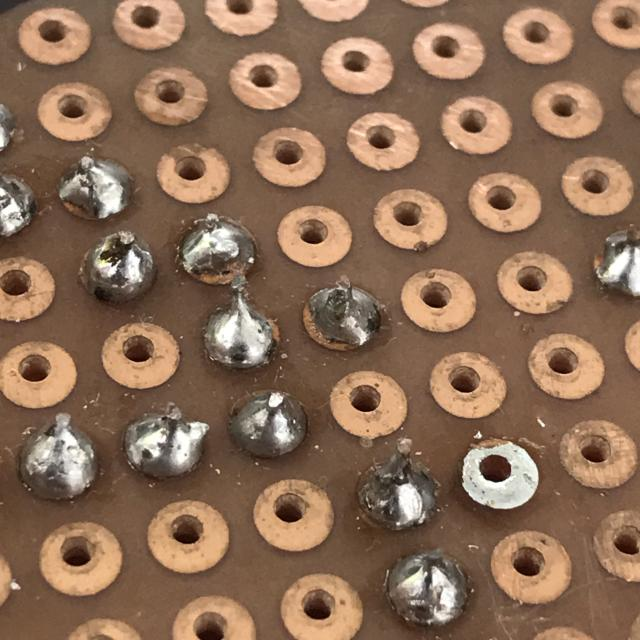good: (378, 540, 478, 634)
hole: (74, 227, 163, 307)
pad_less: (172, 210, 262, 290), (297, 279, 384, 356), (53, 150, 138, 224)
